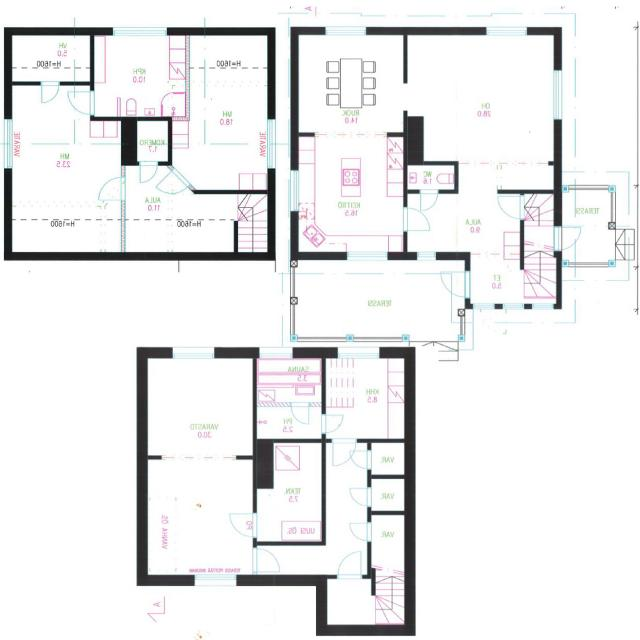door: (156, 168, 191, 203), (554, 227, 584, 251), (442, 272, 471, 296), (253, 548, 280, 572), (338, 552, 361, 579), (498, 196, 524, 219), (68, 91, 94, 114), (334, 439, 356, 466), (231, 514, 257, 536), (404, 208, 430, 230), (100, 178, 126, 200), (349, 488, 372, 506), (349, 451, 372, 469), (322, 415, 344, 433), (350, 523, 372, 540), (291, 402, 308, 424), (421, 189, 438, 211), (140, 161, 157, 183), (42, 81, 59, 103)
